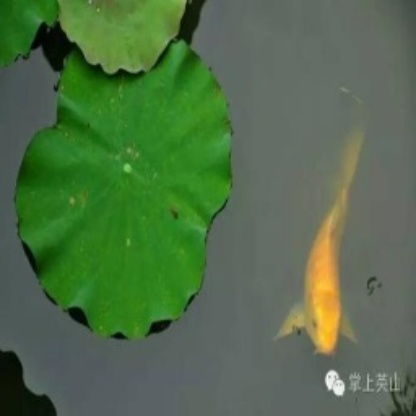leaf: (18, 63, 235, 339)
